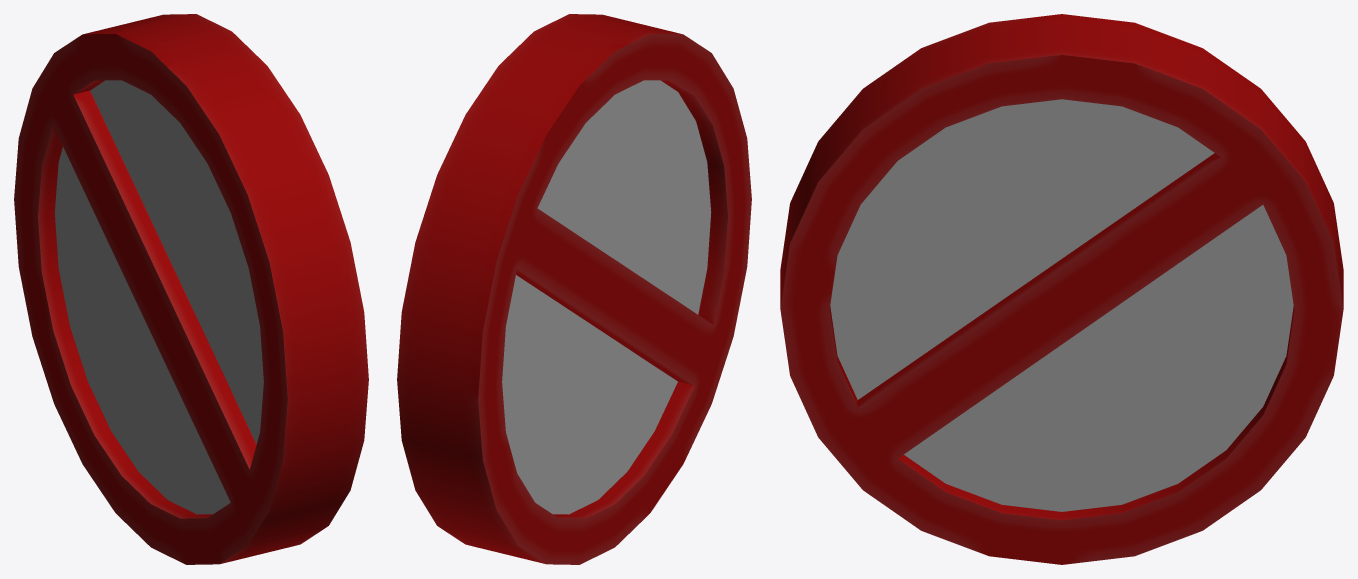
File: FORBIDDEN_UNITY.fbx
3 views of the same model, side by side, from view 1: azimuth 30°, elevation 25°; view 2: azimuth 150°, elevation 25°; view 3: azimuth 270°, elevation 25° (orthographic). The views are drawn at different scales.
Visible parts, largest first — view 1: FORBIDDEN; view 2: FORBIDDEN; view 3: FORBIDDEN.
Boxes of the visible parts, left/top/right/bottom form: FORBIDDEN: left=14, top=14, right=368, bottom=564; FORBIDDEN: left=397, top=14, right=751, bottom=564; FORBIDDEN: left=780, top=14, right=1343, bottom=564.
Bounding box in the file's own units: 0.3422 × 2 × 2.
Materials: 1 (1 with a texture image).
